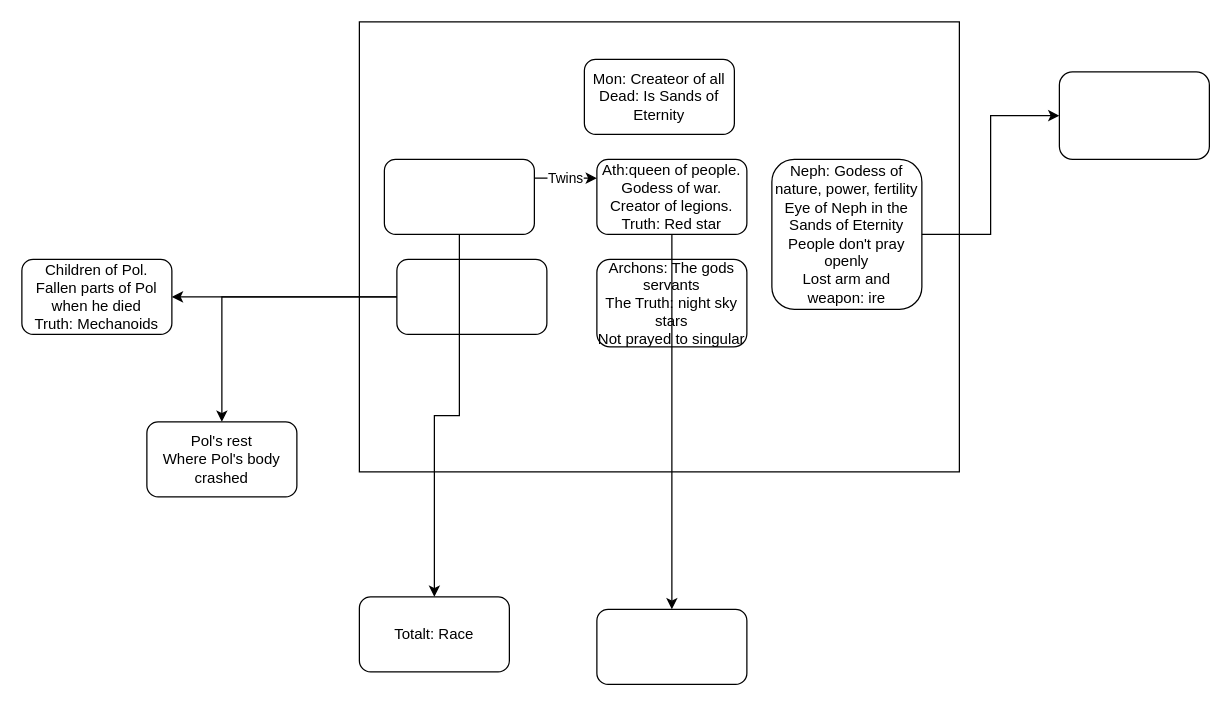
The diagram is 1231 pixels wide and 706 high, and some of its shapes have lost their labels. Here are the shapes that lost their labels. From the top down, the centre of each, then its label:
the point at 1133,115: Ire: Spear of the god Neph Somewhere on Akharon
the point at 458,196: Akh:King of people Creator of Totalt Truth: Yellow star
the point at 471,296: Pol: god of Alchemy, knowledge, metal Dead: killed by Neph Noone prays to him
the point at 671,646: Legion: Race
